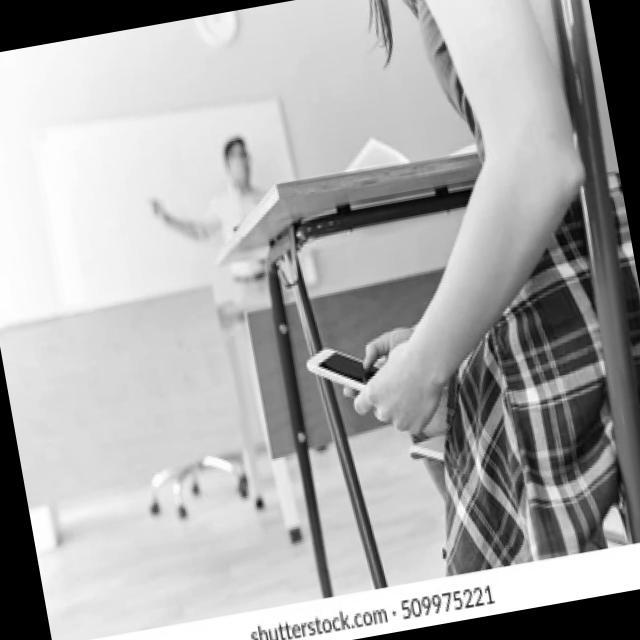phone: (302, 336, 386, 400)
